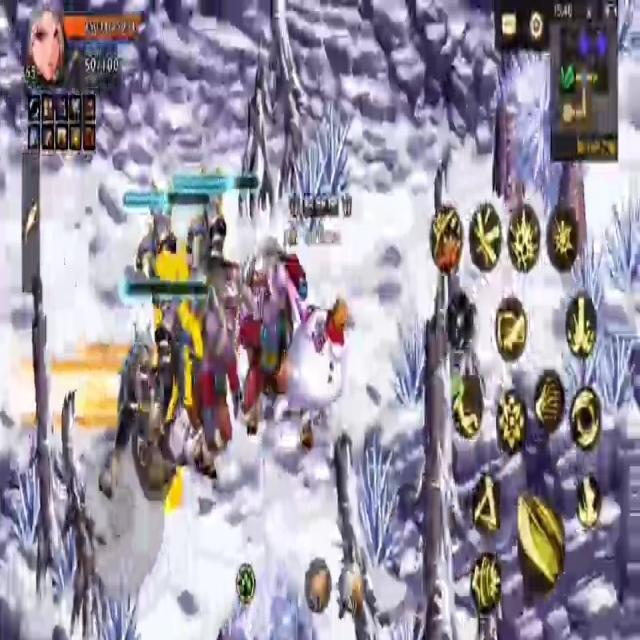player: (277, 291, 348, 448)
